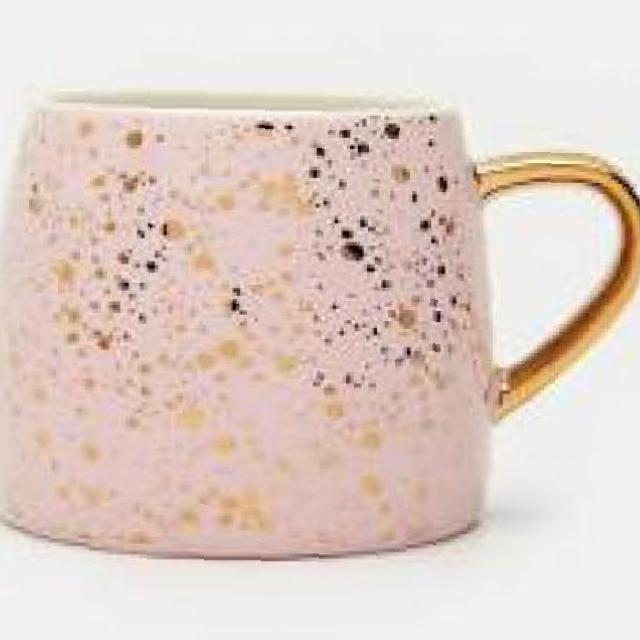cup: (0, 4, 83, 640)
